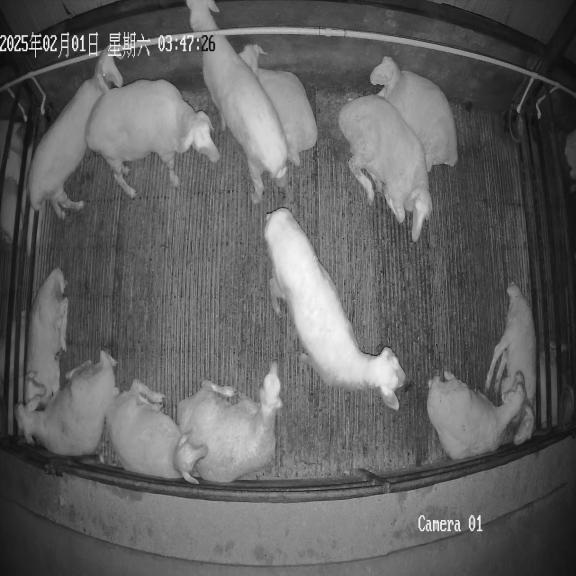lying: (338, 95, 432, 241), (178, 362, 283, 482), (17, 351, 119, 456), (106, 380, 207, 484), (370, 56, 457, 172), (239, 44, 317, 165), (427, 371, 525, 460), (485, 283, 536, 445), (24, 269, 68, 410)
stand: (264, 208, 406, 410), (186, 0, 288, 203), (29, 48, 123, 219), (85, 79, 219, 197)
